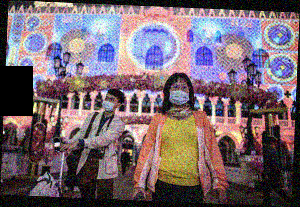with_mask: (167, 81, 192, 106), (100, 96, 120, 114)
